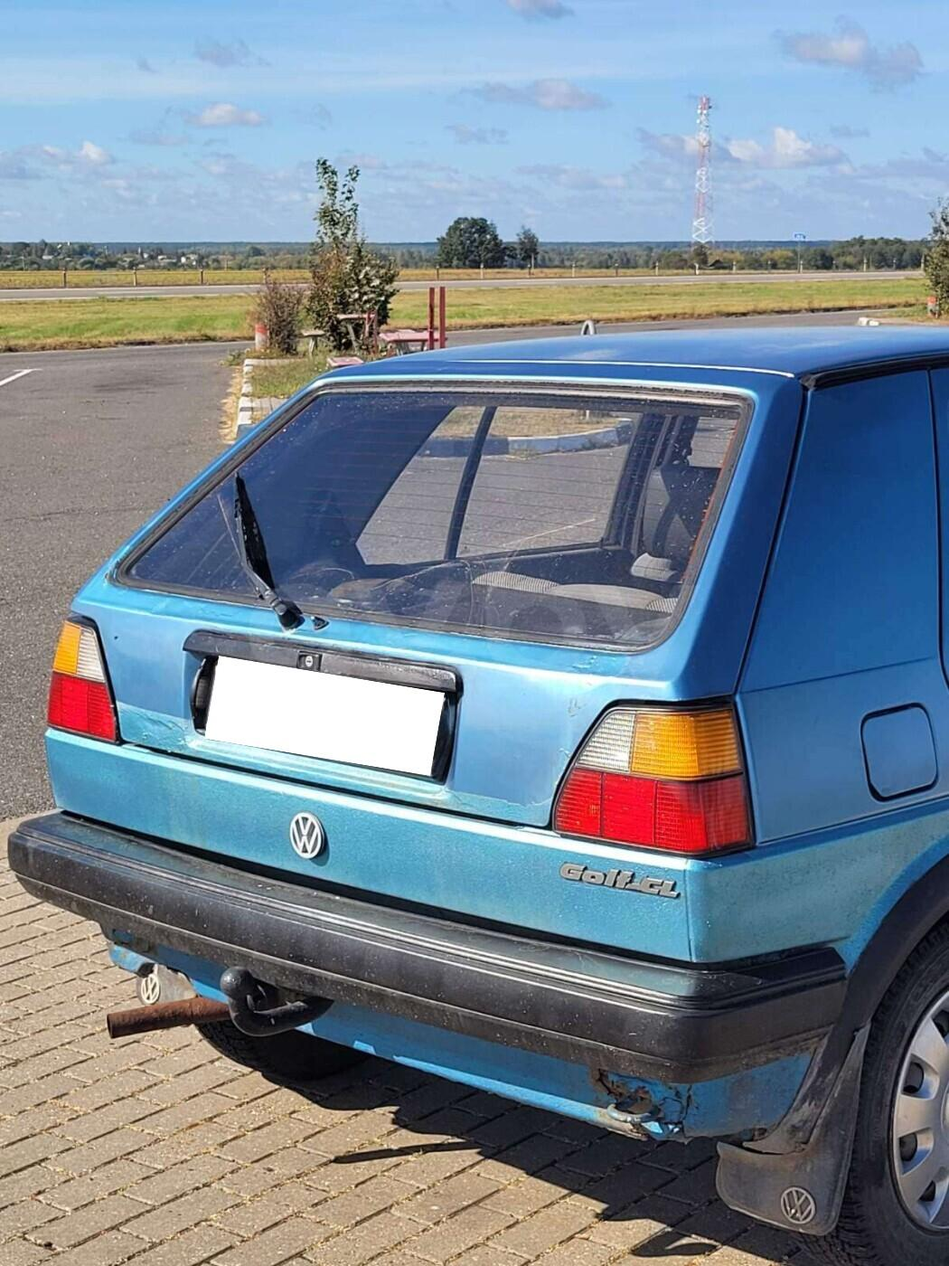Golf_1983-1992: (5, 315, 949, 1252)
